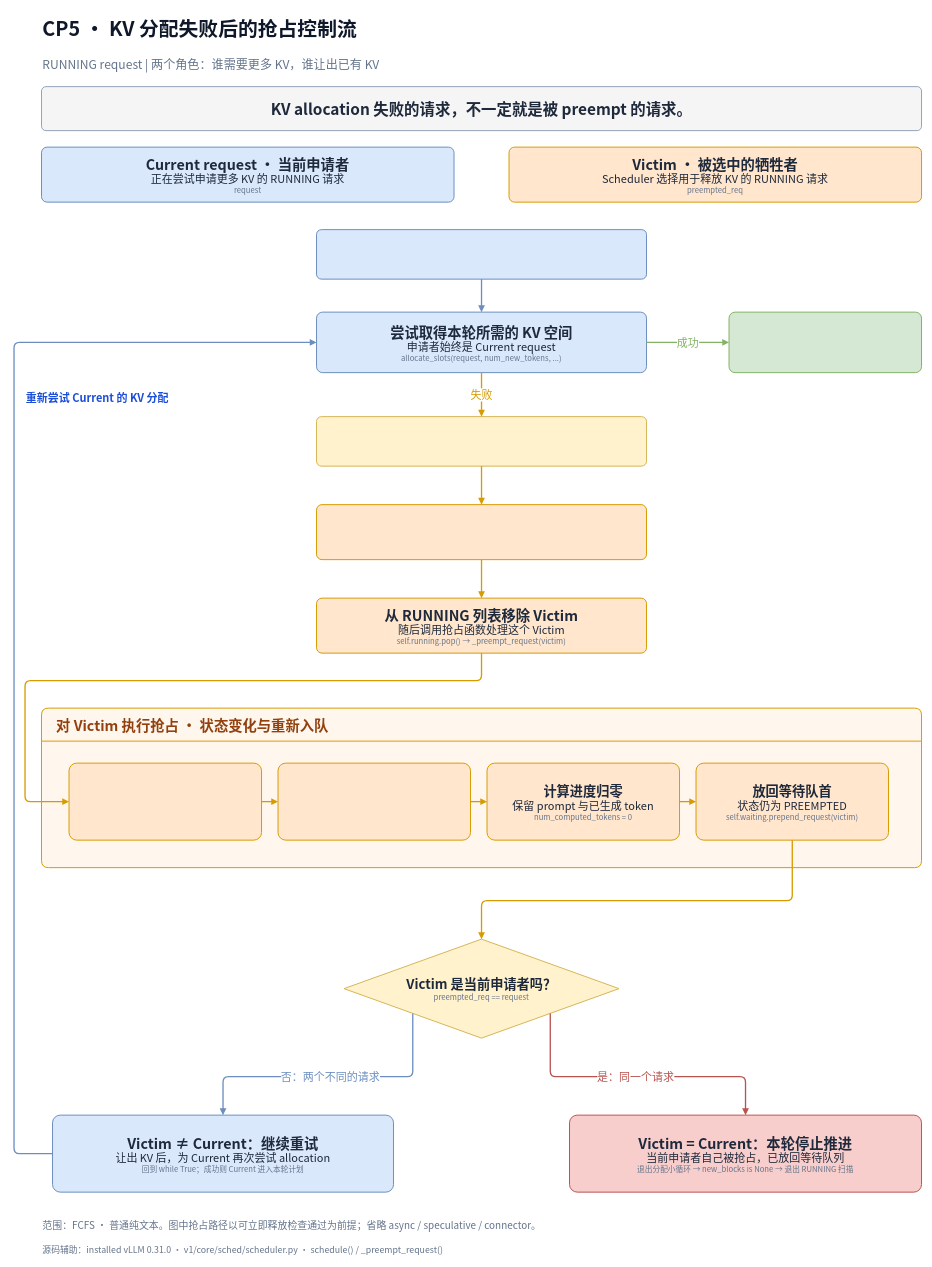
Some shapes in this 932 by 1267 pixel diagram are drawn without their labels. Each missing label, with the centre of its shape:
Current 继续本轮 登记计划，等待后续模型执行 scheduled_running_reqs / num_scheduled_tokens: the point at 825,342
KV 容量验证失败 进入 victim 选择路径 new_blocks is None: the point at 481,441
Victim 状态改变 RUNNING → PREEMPTED request.status = PREEMPTED: the point at 374,801
当前 RUNNING 请求 计划推进本轮工作: the point at 481,254
选择 Victim FCFS：查看 RUNNING 列表队尾 preempted_req = self.running[-1]: the point at 481,532
释放 Victim 的 KV 调用 KV 释放接口 _free_request_blocks(victim): the point at 165,801
